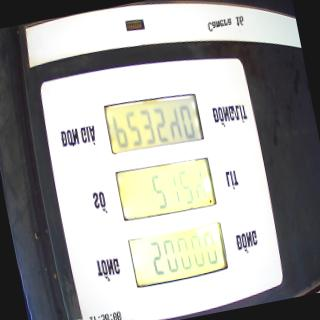screen: (99, 85, 232, 293)
